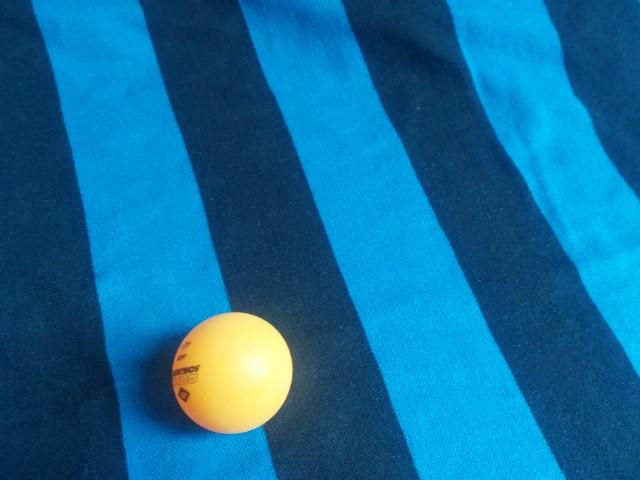oball: (336, 43, 480, 178)
